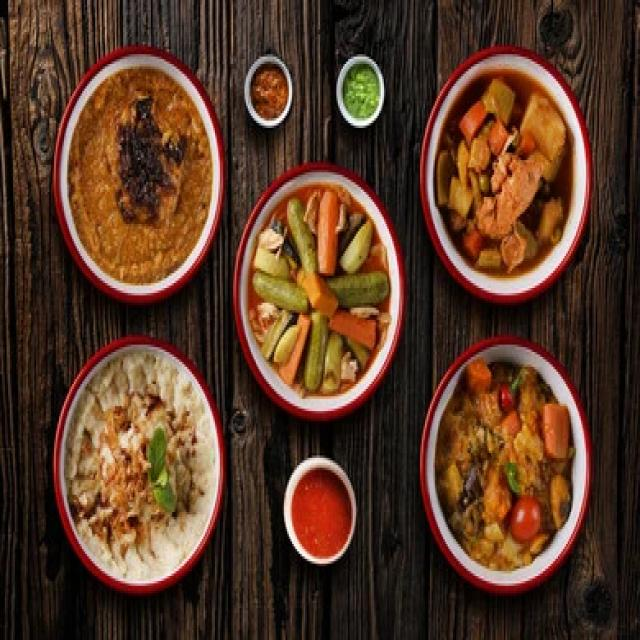salsa: (292, 468, 354, 558)
